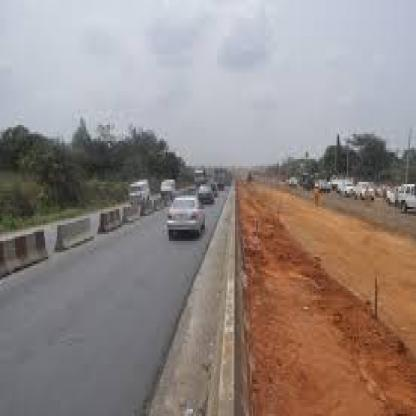car: (160, 196, 220, 259), (128, 175, 156, 208), (186, 151, 208, 188), (396, 181, 416, 215), (156, 165, 176, 199), (195, 182, 213, 206)
